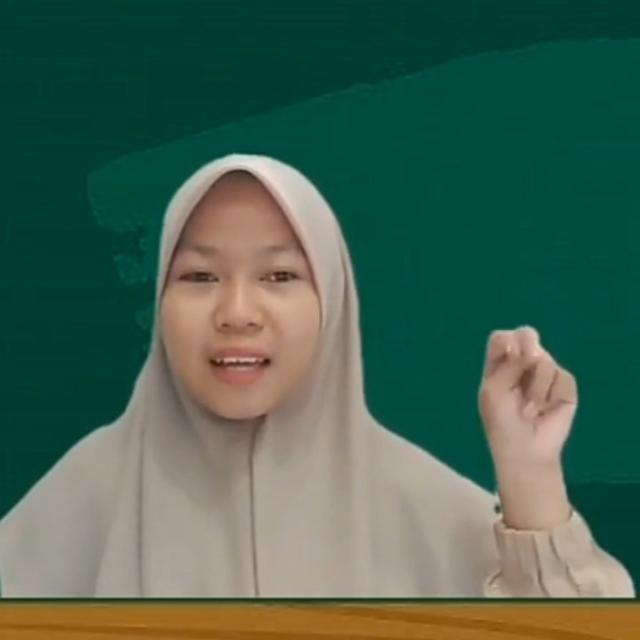N: (475, 324, 583, 464)
